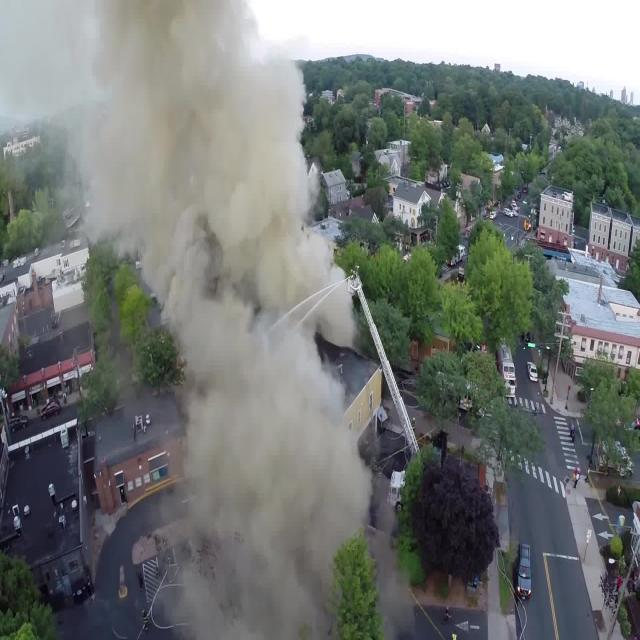smoke: (15, 4, 316, 265), (161, 267, 356, 640)
